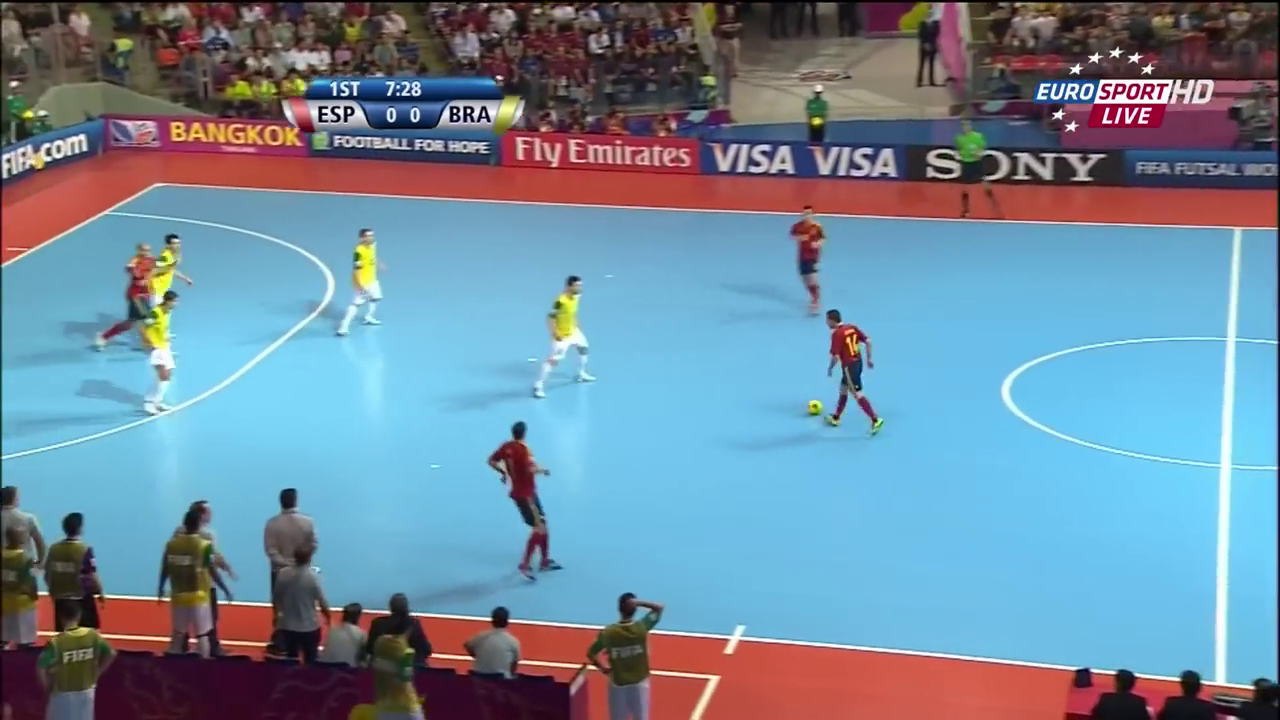ball: (807, 398, 823, 418)
person: (485, 421, 561, 584), (816, 306, 885, 435), (534, 273, 593, 397), (95, 244, 153, 352), (337, 225, 386, 339), (138, 289, 179, 415), (782, 207, 830, 311), (151, 229, 192, 337)
